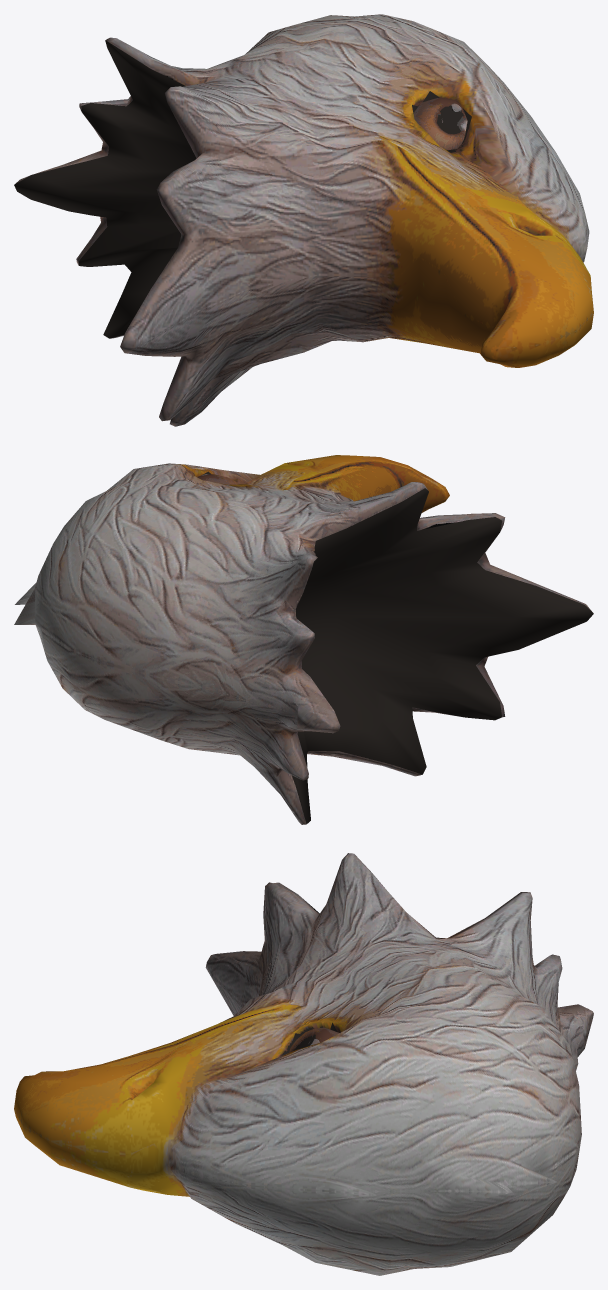
File: M_EagleMask.fbx
3 renders of one model, top to bottom at view 1: azimuth 30°, elevation 25°; view 2: azimuth 150°, elevation 25°; view 3: azimuth 270°, elevation 25°, orthographic. The views are drawn at different scales.
Parts seen in each view (by area): view 1: 24_Mask_0.5_16_16.001; view 2: 24_Mask_0.5_16_16.001; view 3: 24_Mask_0.5_16_16.001.
Part boxes in pixels (<box>): 24_Mask_0.5_16_16.001: <box>14,14,593,426</box>; 24_Mask_0.5_16_16.001: <box>14,455,593,824</box>; 24_Mask_0.5_16_16.001: <box>14,853,593,1275</box>.
Size of the model in its own units: 0.2484 by 0.1577 by 0.258.
